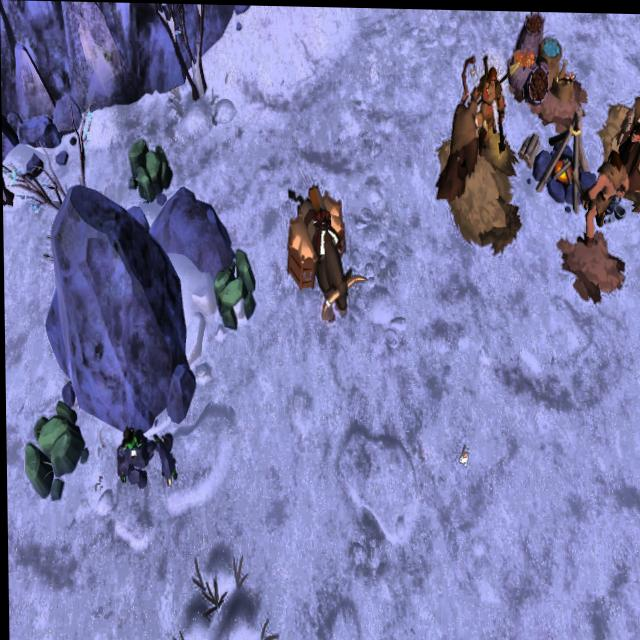enemy_factionKeeper: (433, 90, 482, 203), (576, 144, 630, 242), (468, 63, 507, 155)
rock_t3: (23, 397, 83, 504), (212, 244, 259, 334), (125, 132, 175, 205)
